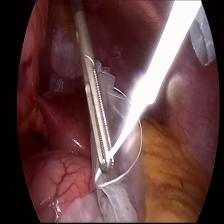Grasper: (79, 50, 117, 180)
Specimen Bag: (71, 69, 156, 224)
